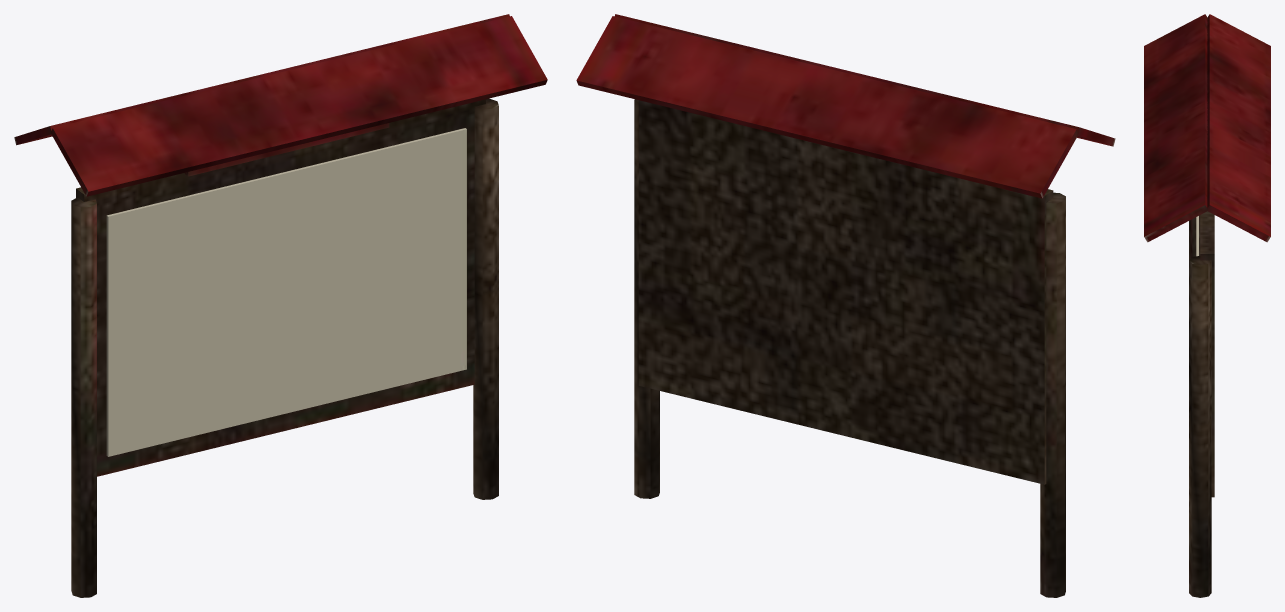
File: mapboard.glb
The picture shows the model from 3 angles, left to right: view 1: azimuth 30°, elevation 25°; view 2: azimuth 150°, elevation 25°; view 3: azimuth 270°, elevation 25°; orthographic projection. The views are drawn at different scales.
Visible parts, largest first — view 1: Screen, Main; view 2: Main; view 3: Main.
Part boxes in pixels (bbox=[...]): Screen: bbox=[106, 128, 466, 456]; Main: bbox=[14, 14, 547, 597]; Main: bbox=[576, 14, 1115, 597]; Main: bbox=[1144, 14, 1270, 597].
Size of the model in its own units: 3.2 by 3.13 by 0.898.
Materials: 2 (2 with a texture image).
